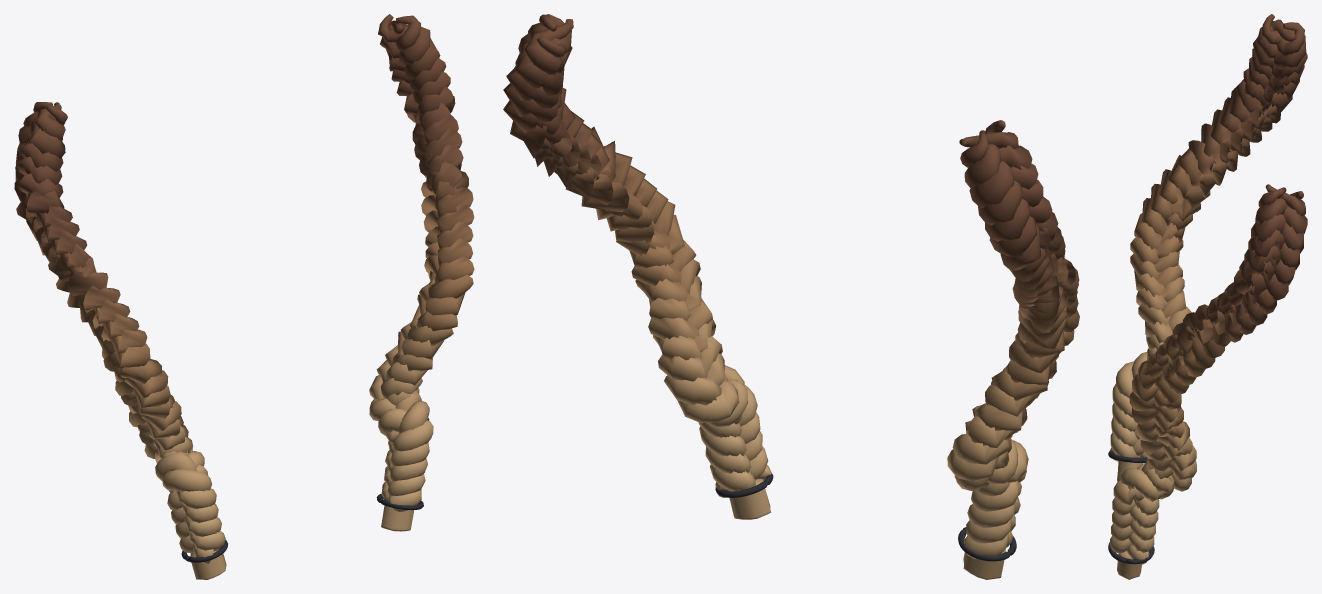
The model's file is Ombre-4b8642ae93f0253-hair.glb.
3 renders of one model, left to right at view 1: azimuth 30°, elevation 25°; view 2: azimuth 150°, elevation 25°; view 3: azimuth 270°, elevation 25°, orthographic. The views are drawn at different scales.
Visible parts, largest first — view 1: 226 hairLengths / Hair / chestnut226, 226 hairLengths / Hair / ties226; view 2: 226 hairLengths / Hair / chestnut226, 226 hairLengths / Hair / ties226; view 3: 226 hairLengths / Hair / chestnut226, 226 hairLengths / Hair / ties226.
Part boxes in pixels (x1=…): 226 hairLengths / Hair / chestnut226: x1=14, y1=14, x2=474, y2=579; 226 hairLengths / Hair / ties226: x1=181, y1=494, x2=423, y2=562; 226 hairLengths / Hair / chestnut226: x1=503, y1=14, x2=1079, y2=579; 226 hairLengths / Hair / ties226: x1=715, y1=474, x2=1016, y2=561; 226 hairLengths / Hair / chestnut226: x1=1110, y1=14, x2=1307, y2=579; 226 hairLengths / Hair / ties226: x1=1108, y1=451, x2=1154, y2=564.
Bounding box in the file's own units: 1.09 × 1.06 × 0.4447.
2 materials, 1 textured.
